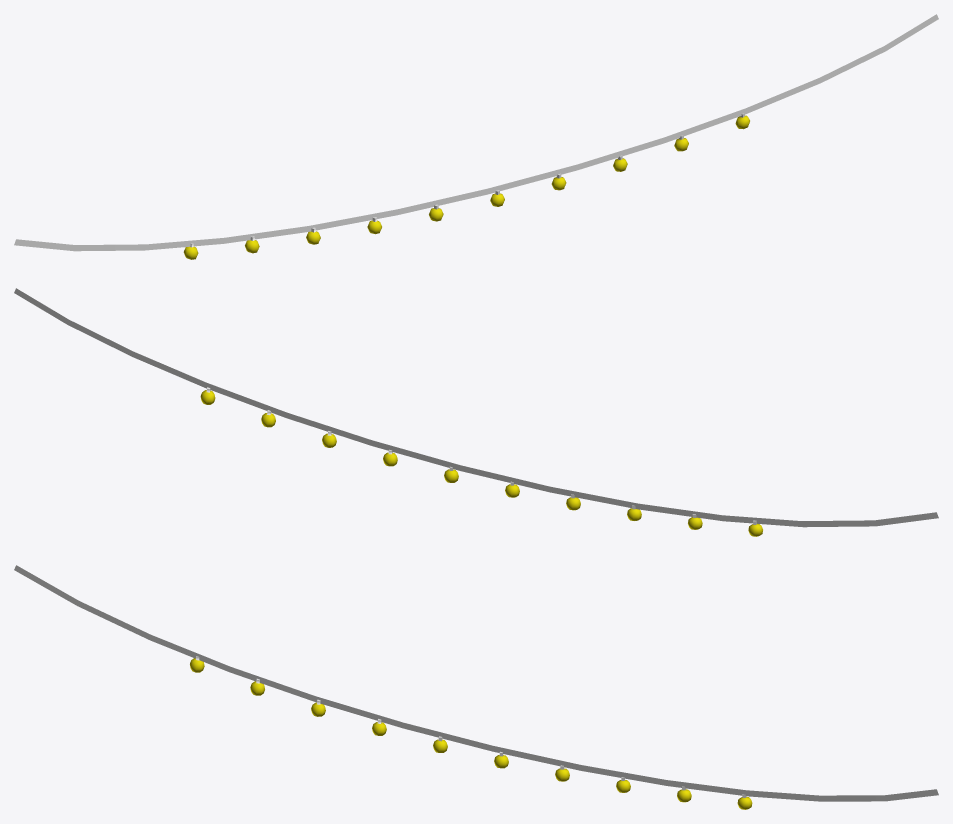
File: SM_Light.fbx
The picture shows the model from 3 angles, top to bottom: view 1: azimuth 30°, elevation 25°; view 2: azimuth 150°, elevation 25°; view 3: azimuth 330°, elevation 25°; orthographic projection.
Parts seen in each view (by area): view 1: Light.001; view 2: Light.001; view 3: Light.001.
Boxes of the visible parts, x1,y1,x2,y2 form: Light.001: [14, 14, 938, 259]; Light.001: [14, 288, 938, 536]; Light.001: [14, 565, 938, 809].
Size of the model in its own units: 653 by 58.68 by 10.6.
